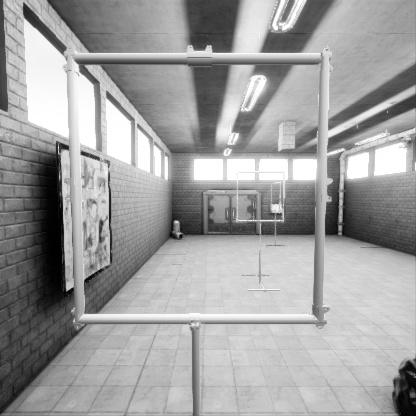gate: (84, 115, 331, 356), (237, 196, 287, 246), (271, 205, 280, 235)
